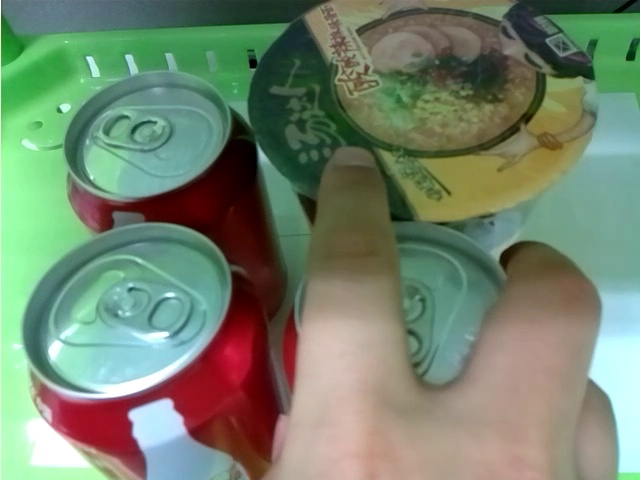cocacola: (20, 226, 277, 480), (68, 73, 288, 319), (399, 224, 509, 385)
hand: (282, 148, 622, 478)
noodles: (243, 3, 601, 242)
